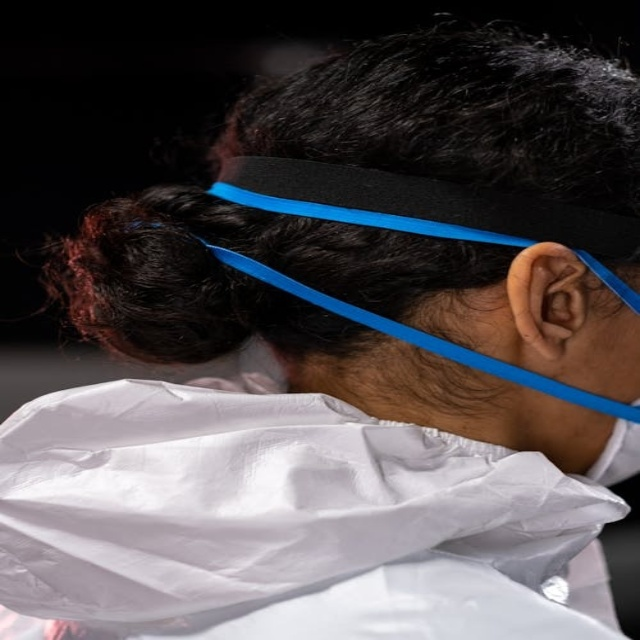Mascara: (502, 359, 636, 491)
